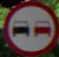No overtake: (3, 2, 55, 52)
